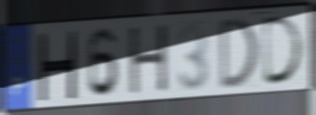3: (176, 20, 210, 93)
6: (86, 26, 120, 100)
D: (261, 13, 307, 88), (218, 14, 260, 93)
H: (127, 22, 170, 97), (36, 30, 79, 102)
